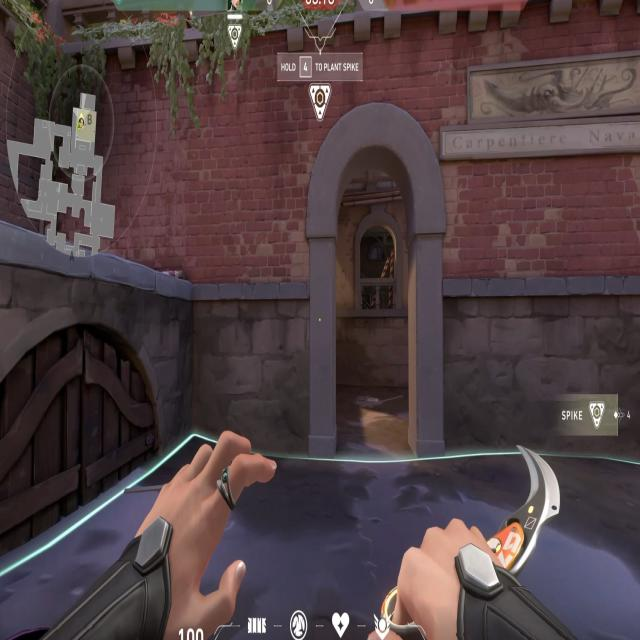B_Boathouse: (302, 99, 451, 468)
